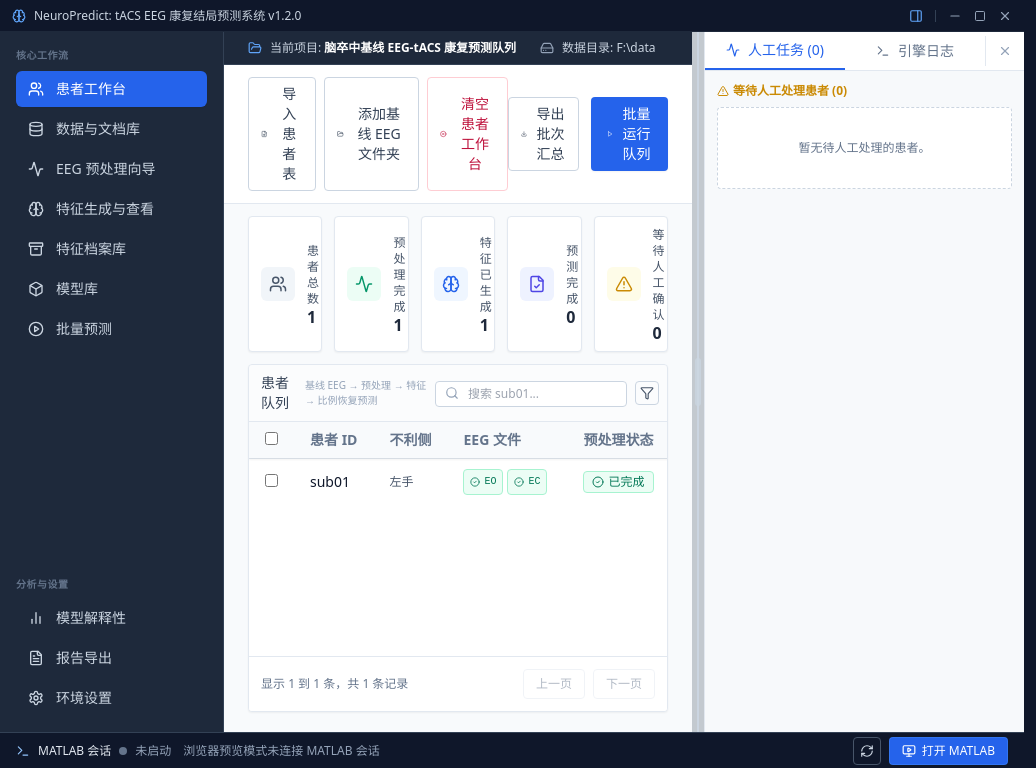
Gemini batch prediction view › loads backend prediction models and queues backend batch prediction from the active app
Step 1. Click the button "批量预测" → (112, 329), box [16,311,207,347]
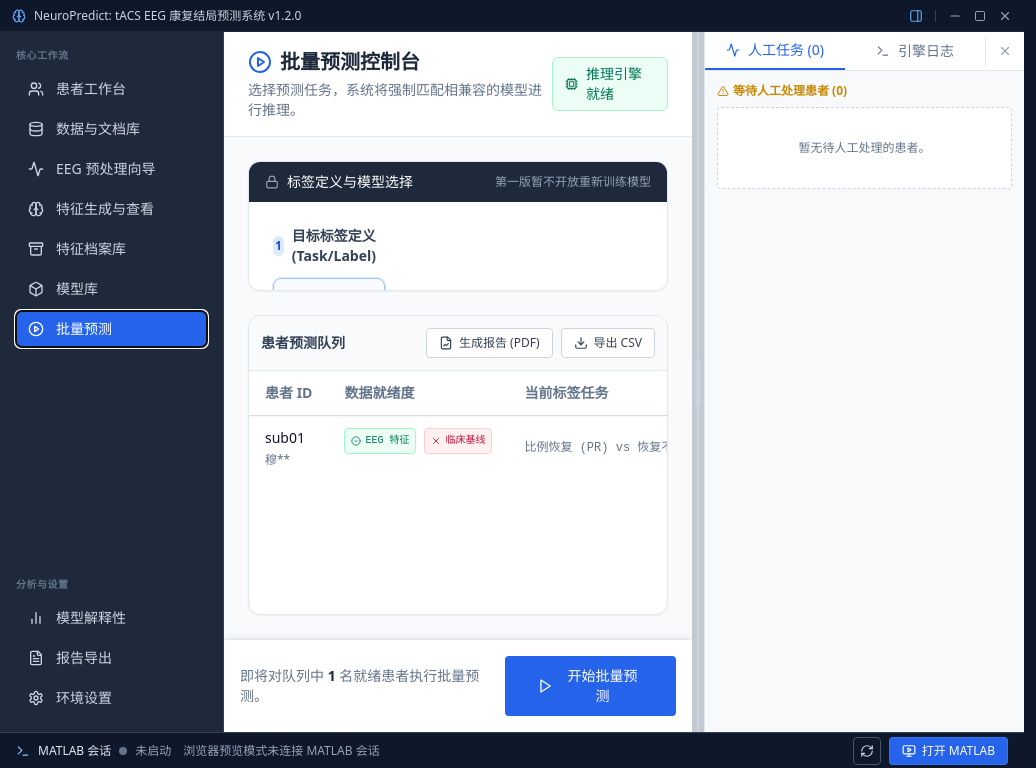
Check: the text "穆**" is shown, box [265,451,290,468]
Step 2. Click the button "开始批量预测" → (590, 686), box [505,656,676,716]
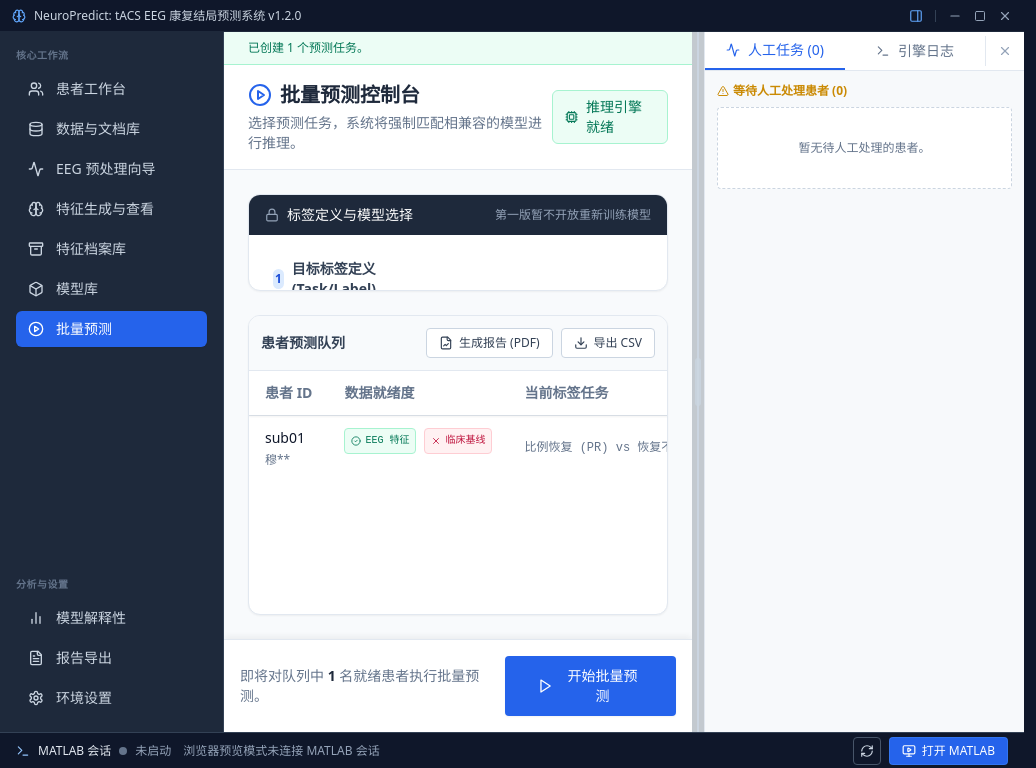
Check: the text "已创建 1 个预测任务。" is shown, box [224,32,692,65]
